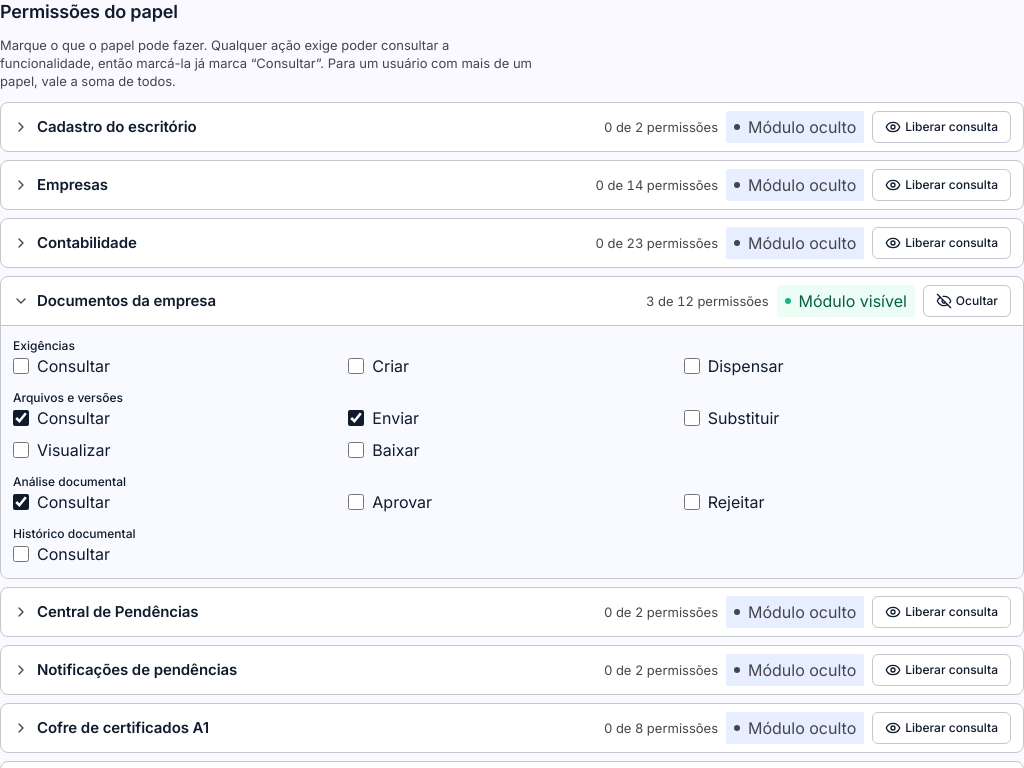
Test: ocultar módulo (§3.3) › confirmar revoga toda a subárvore e o módulo passa a oculto
This screenshot has width=1024, height=768.
Click the button with aria-label "Ocultar módulo Documentos da empresa": (967, 301) [923,285,1011,317]
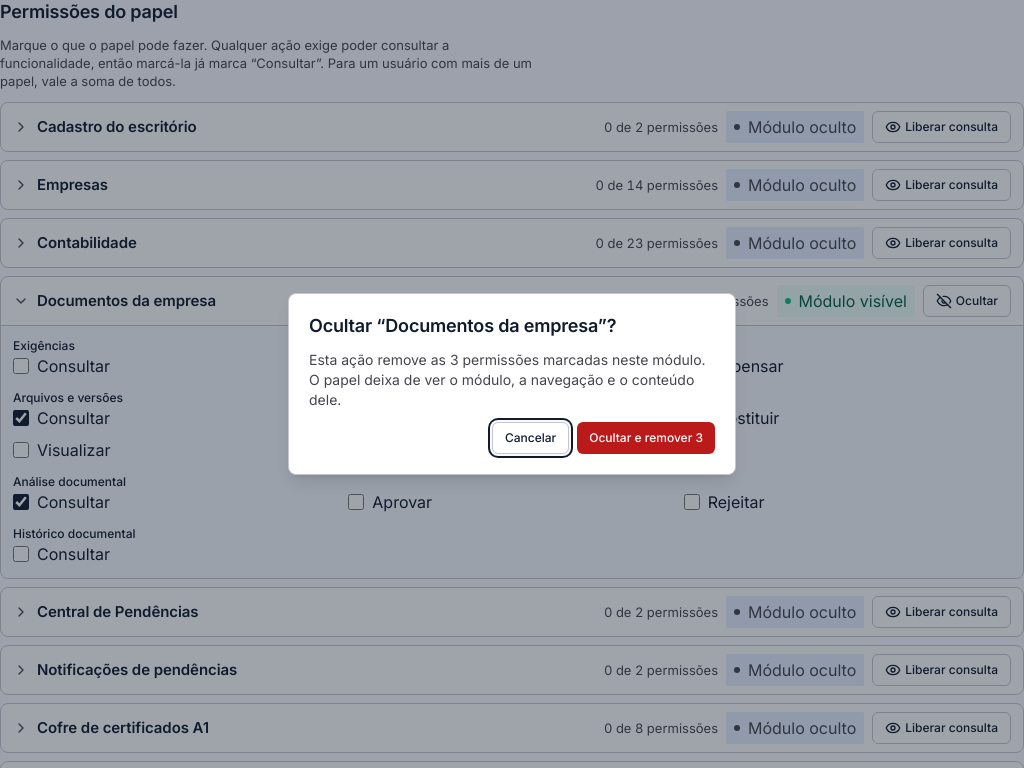
Click the button "Ocultar e remover 3": (646, 438) [577,422,715,454]
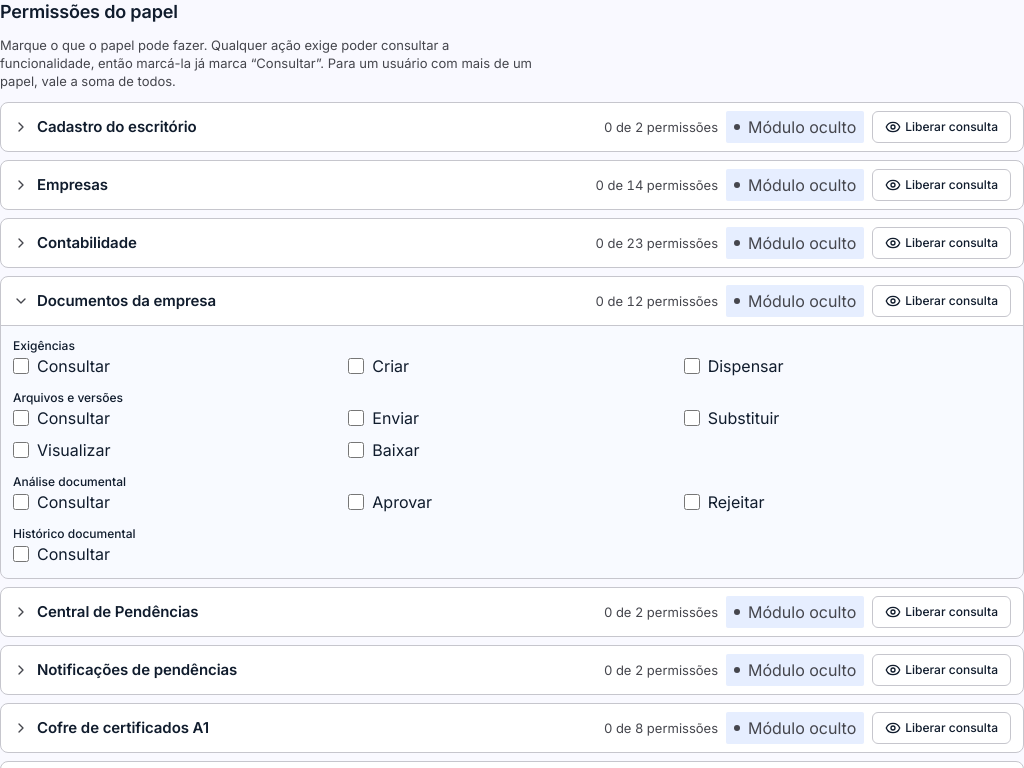
Check: the text "Módulo oculto" is shown, box [726,285,864,317]
Check: the text "0 de 12 permissões" is shown, box [596,292,718,310]
